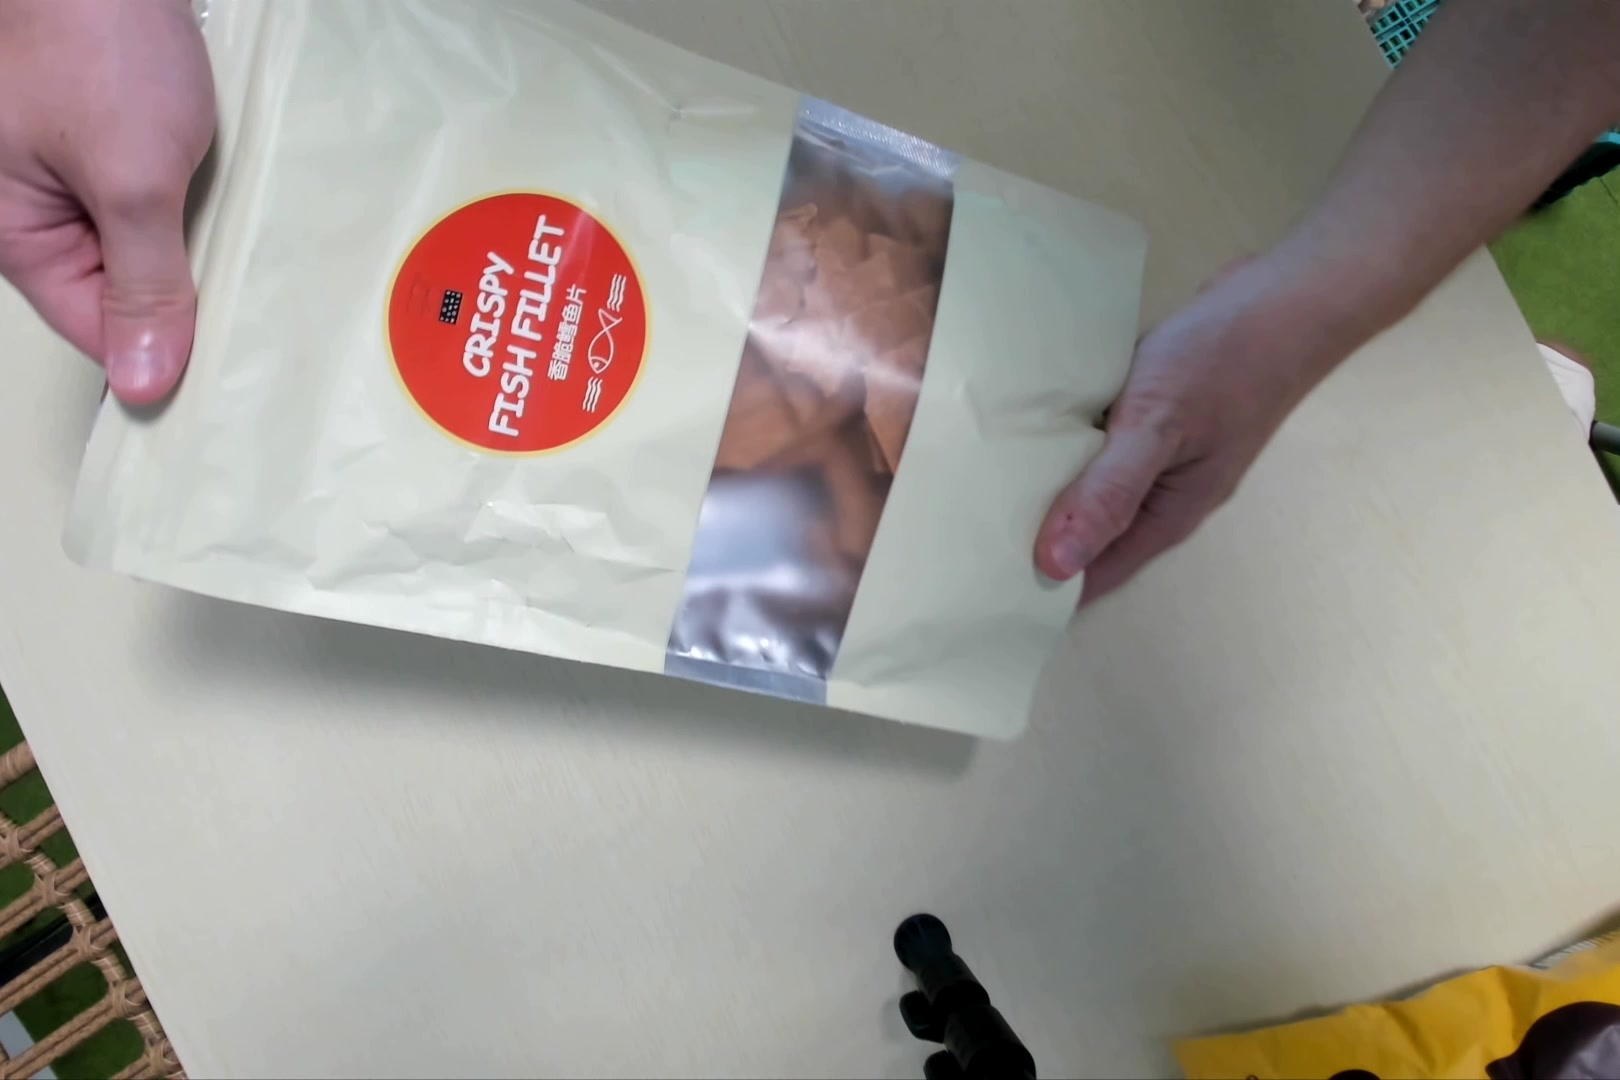PotatoChipsKeropok_100-199g_NonHalal_NonHealthy: (115, 5, 1154, 745)
